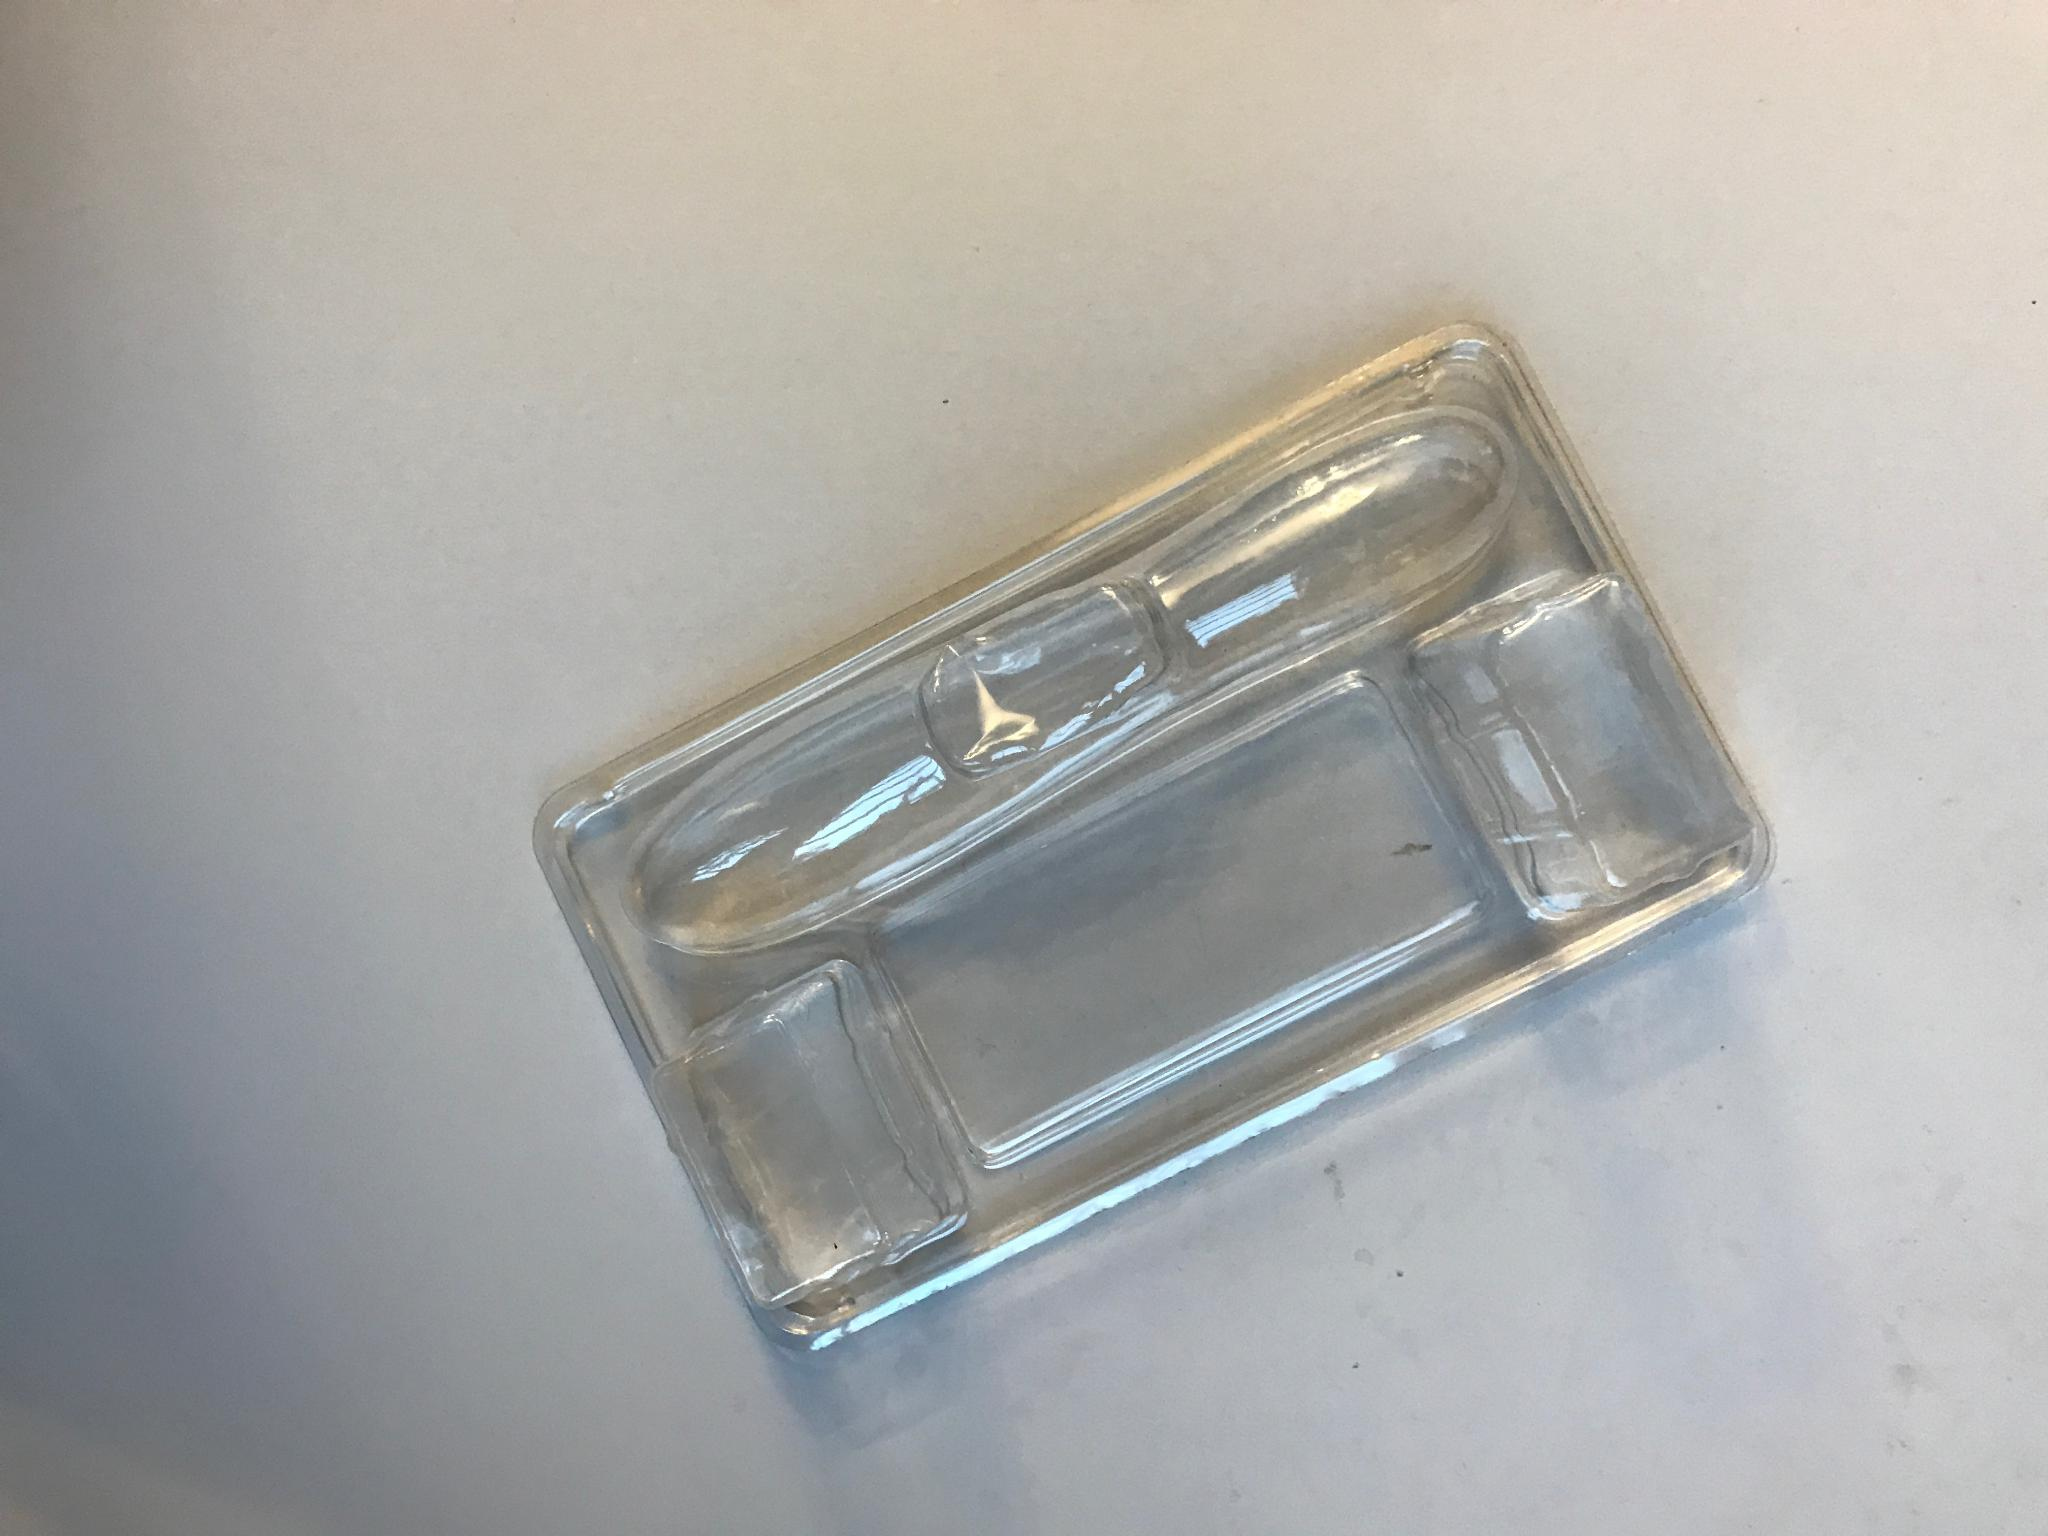Plastic: (514, 303, 1785, 1373)
